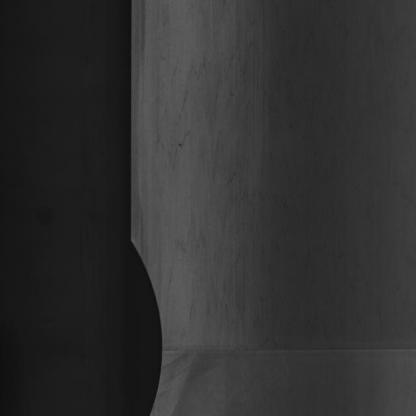crescent_gap: (108, 218, 173, 416)
welding_line: (141, 335, 412, 368)
